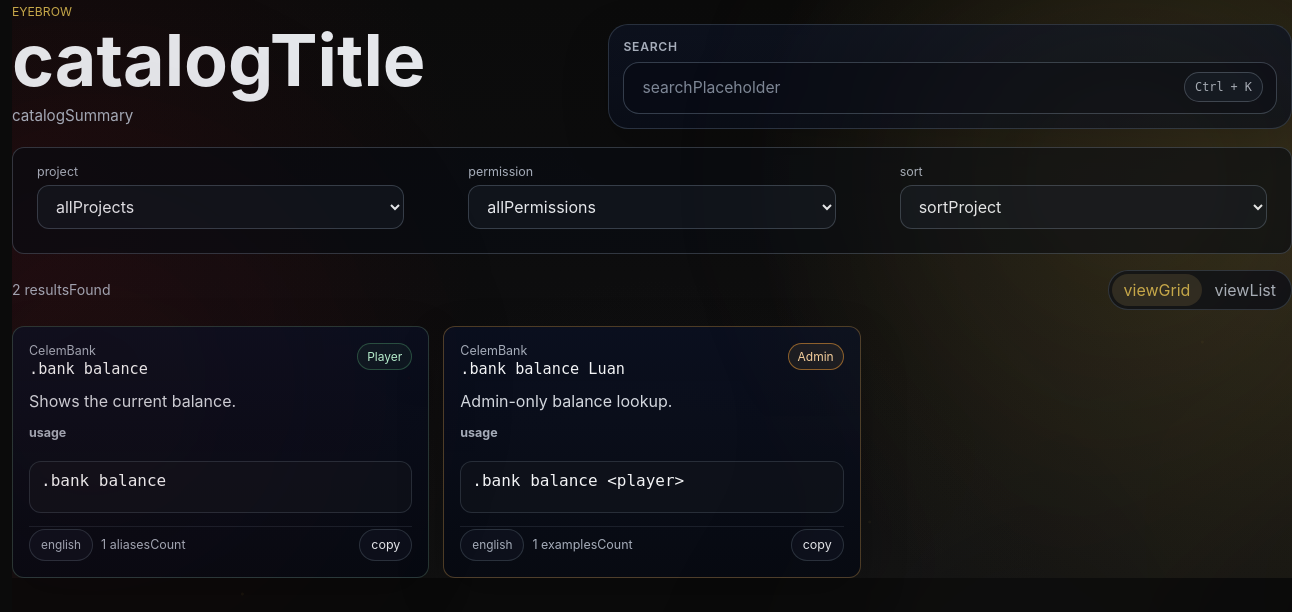
Scenario: CommandCatalogComponent › searches admin variant-only usage only for admins
In the search field labelled "search Ctrl + K": (950, 88) [623,62,1277,114], type ".bank balance <player>"
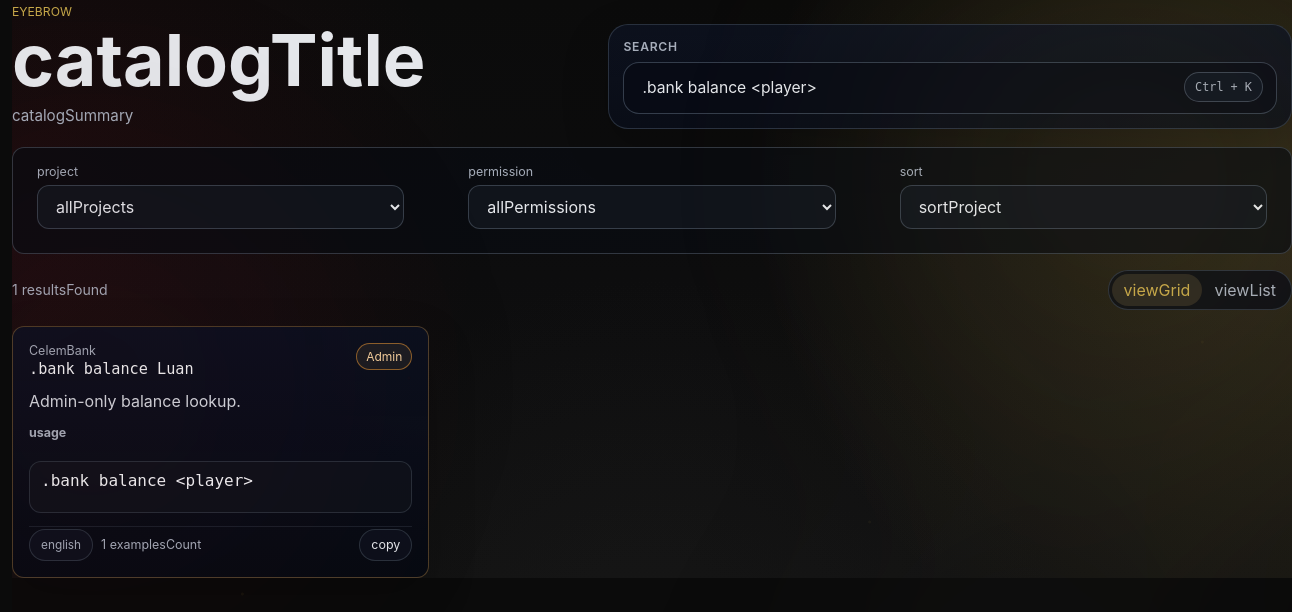
Expected: the text "Admin-only balance lookup." is shown, [29,391,241,411]
Now the text with class "results-bar__summary" reads "1 resultsFound", box [12,281,108,298]
